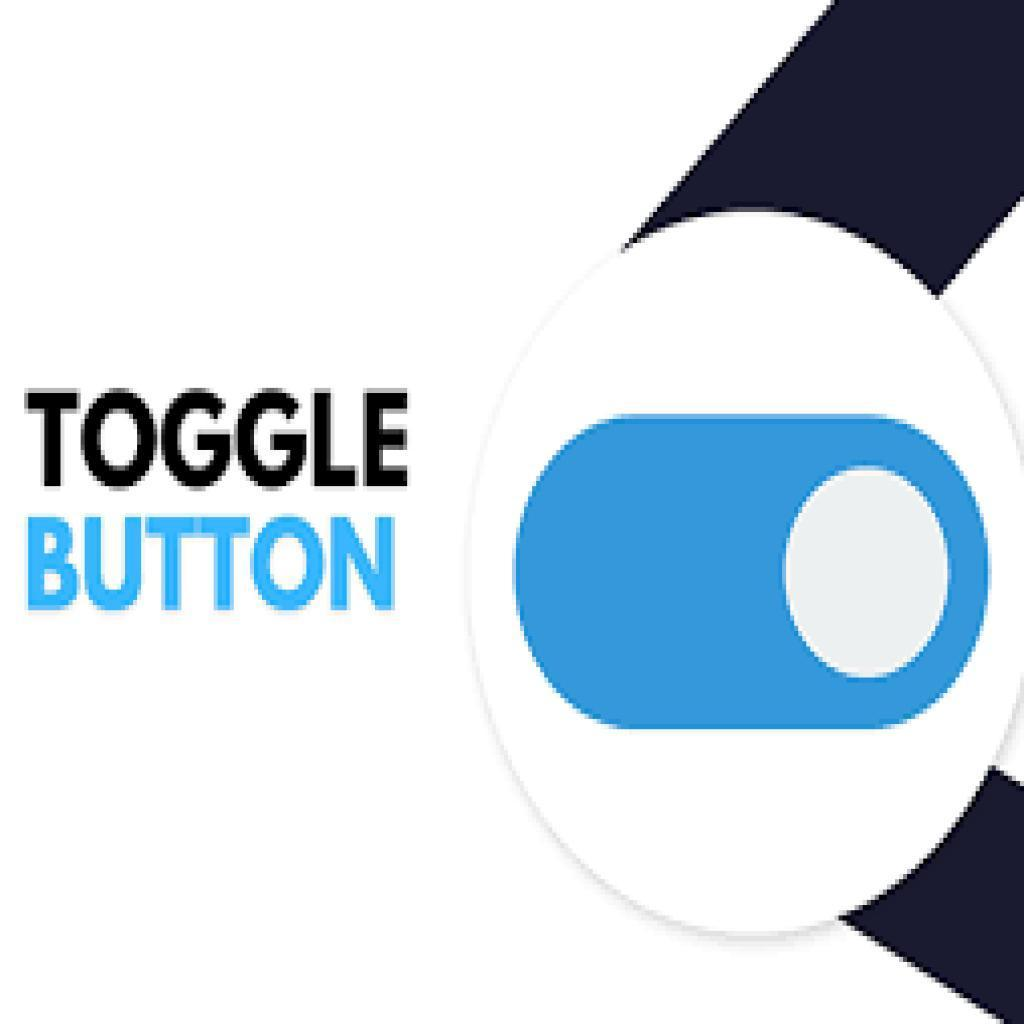switch: (512, 416, 995, 733)
